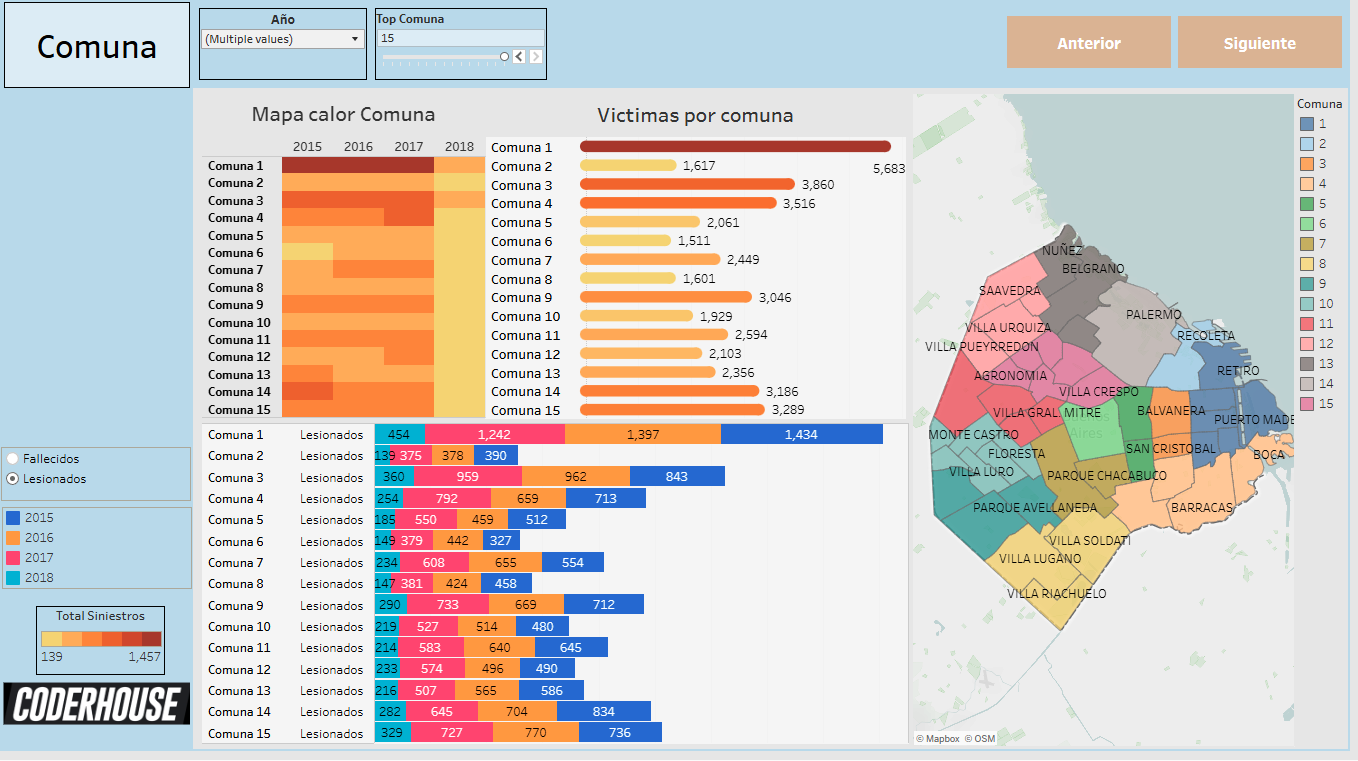

The page's visual inventory and layout, read from the dashboard file:
{"tool":"powerbi","page":{"name":"Mapa","canvas":[1280,720],"ordinal":2},"visuals":[{"type":"pageNavigator","box":[548.9,30,731.1,28.9],"z":0},{"type":"clusteredBarChart","title":"Fallecidos y lesionados por Comunas","fields":{"Category":["Comuna.Comuna"],"Y":["Sum(TipoSiniestro.Cantidad_victimas_fatales)","Sum(TipoSiniestro.cantidad_victimas_lesionadas)"]},"box":[380,70,507.3,650],"z":1000},{"type":"map","fields":{"Size":["Sum(TipoSiniestro.Cantidad_victimas_fatales)"],"Category":["Comuna.Localidad"]},"box":[887.3,70,392.7,325.5],"z":2000},{"type":"map","fields":{"Category":["Comuna.Localidad"],"Size":["Sum(TipoSiniestro.cantidad_victimas_lesionadas)"]},"box":[887.3,390.9,392.7,324.5],"z":3000},{"type":"group","id":"g1","title":"Grupo 3","box":[210,69,170,206],"z":4000},{"type":"card","title":"Total siniestros (2015-2018)","fields":{"Values":["Medidas.Total Siniestros"]},"box":[210.3,69,169.8,101],"z":4000,"group":"g1"},{"type":"group","id":"g2","title":"Grupo 1","box":[211,327,169,185],"z":5000},{"type":"card","title":"Fallecidos","fields":{"Values":["Medidas.Cantidad victimas fatales"]},"box":[219,553,161,82],"z":5000,"group":"g3"},{"type":"card","title":"Lesionados","fields":{"Values":["Medidas.Cantidad victimas lesionadas"]},"box":[211,327,169,102],"z":6000,"group":"g2"},{"type":"group","id":"g3","title":"Grupo 2","box":[219,553,161,167],"z":6000},{"type":"slicer","fields":{"Values":["MomentoSiniestro.fecha.Variación.Jerarquía de fechas.Año"]},"box":[10,241,188,72],"z":7000},{"type":"slicer","fields":{"Values":["MomentoSiniestro.fecha.Variación.Jerarquía de fechas.Mes"]},"box":[10,323.3,187.9,72.3],"z":8000},{"type":"slicer","fields":{"Values":["Comuna.Comuna"]},"box":[10,409,188,73],"z":9000},{"type":"image","box":[212,429,168,83],"z":9002,"group":"g2"},{"type":"image","box":[219,635,161,85],"z":9004,"group":"g3"},{"type":"image","box":[210,165.5,170,110],"z":12000,"group":"g1"}]}

Visuals, with their boxes in screenshot pixels (x1, y1, x2, y2), scaled from the page's 1280x720 canvas onto the 1358x761 screenshot:
pageNavigator: region(582, 32, 1357, 62)
"Fallecidos y lesionados por Comunas" clusteredBarChart: region(403, 74, 941, 760)
map - Sum(TipoSiniestro.Cantidad_victimas_fatales) x Comuna.Localidad: region(941, 74, 1357, 418)
map - Comuna.Localidad x Sum(TipoSiniestro.cantidad_victimas_lesionadas): region(941, 413, 1357, 756)
"Grupo 3" group: region(223, 73, 403, 291)
"Total siniestros (2015-2018)" card: region(223, 73, 403, 180)
"Grupo 1" group: region(224, 346, 403, 541)
"Fallecidos" card: region(232, 584, 403, 671)
"Lesionados" card: region(224, 346, 403, 453)
"Grupo 2" group: region(232, 584, 403, 760)
slicer - MomentoSiniestro.fecha.Variación.Jerarquía de fechas.Año: region(11, 255, 210, 331)
slicer - MomentoSiniestro.fecha.Variación.Jerarquía de fechas.Mes: region(11, 342, 210, 418)
slicer - Comuna.Comuna: region(11, 432, 210, 509)
image: region(225, 453, 403, 541)
image: region(232, 671, 403, 760)
image: region(223, 175, 403, 291)
